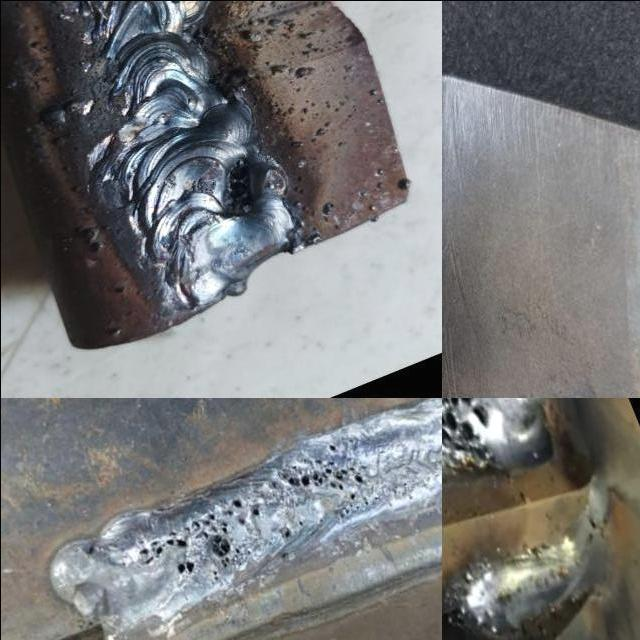defect: (127, 493, 264, 580), (274, 439, 371, 505), (219, 155, 255, 214), (274, 522, 299, 542), (190, 176, 214, 195)
